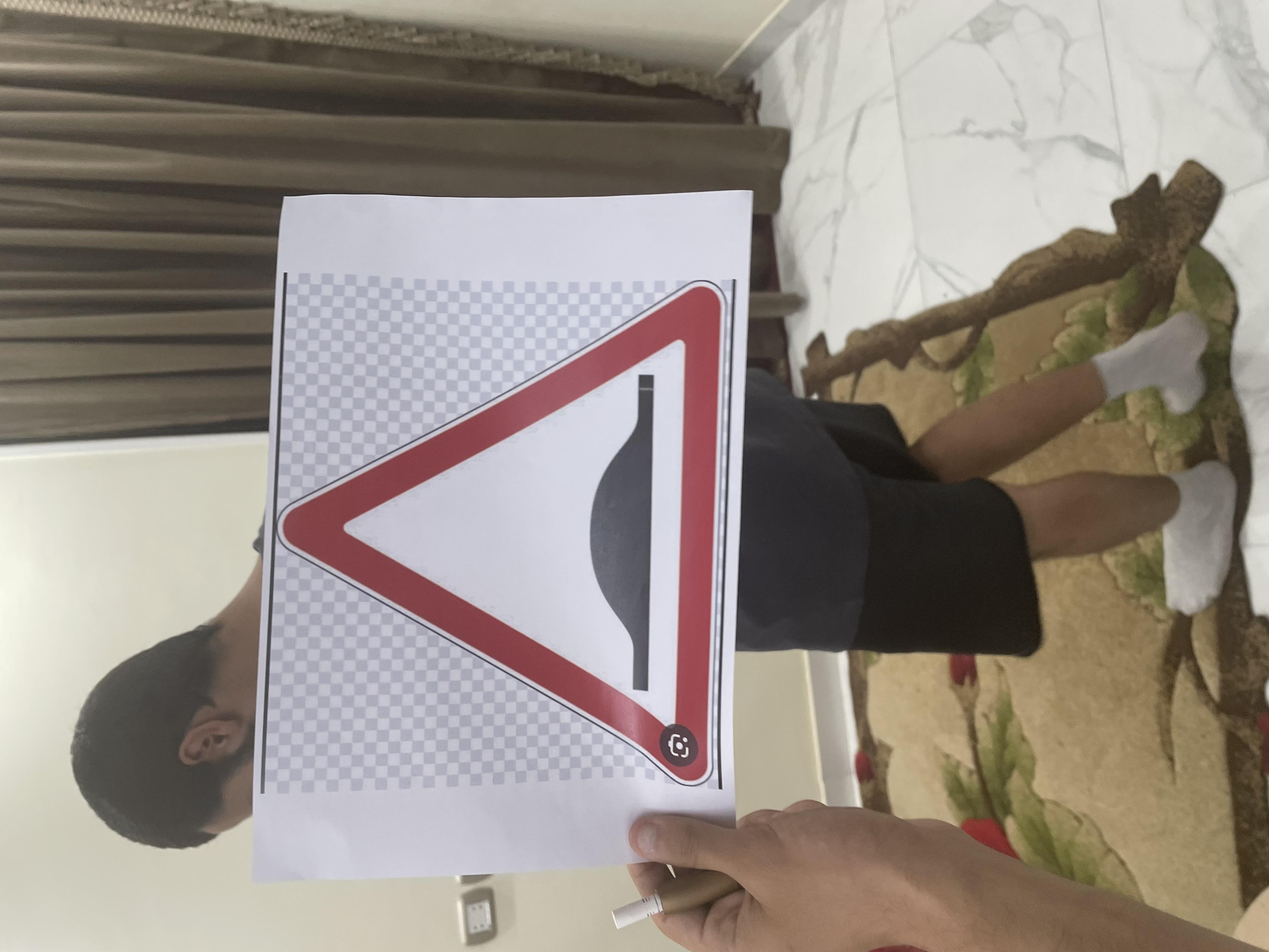Hump: (220, 213, 899, 540)
